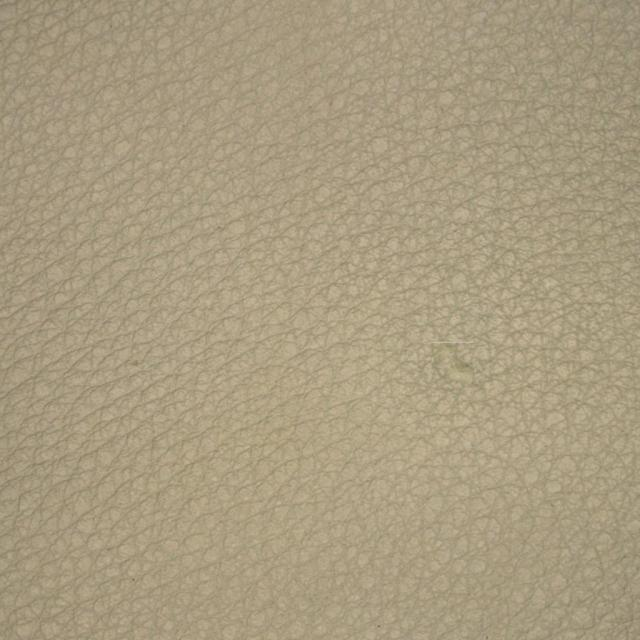Bacterial Injury: (377, 294, 563, 464)
